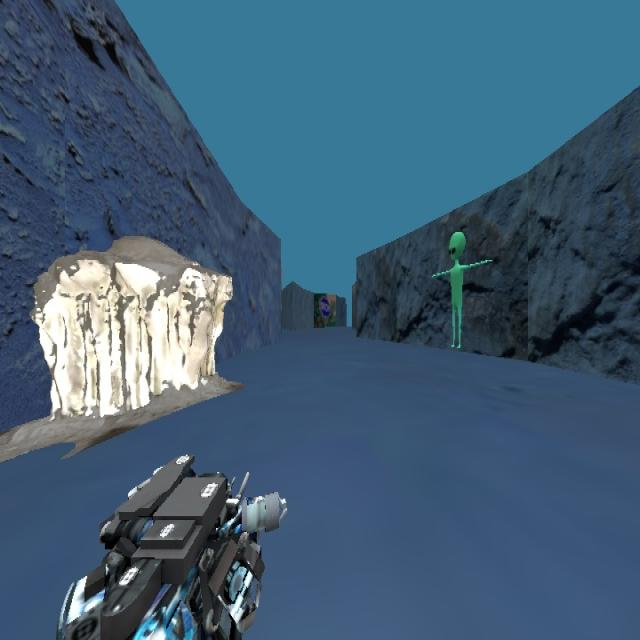Alien: (430, 230, 492, 350)
Ice: (17, 248, 248, 434)
Stop_Sign: (313, 292, 337, 327), (318, 295, 331, 317)
